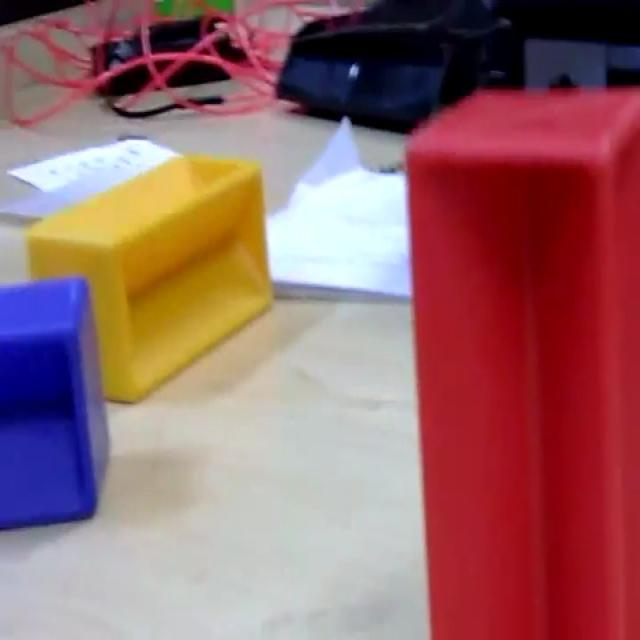blue_block: (0, 274, 110, 530)
red_block: (403, 84, 638, 636)
yellow_block: (25, 150, 274, 402)
